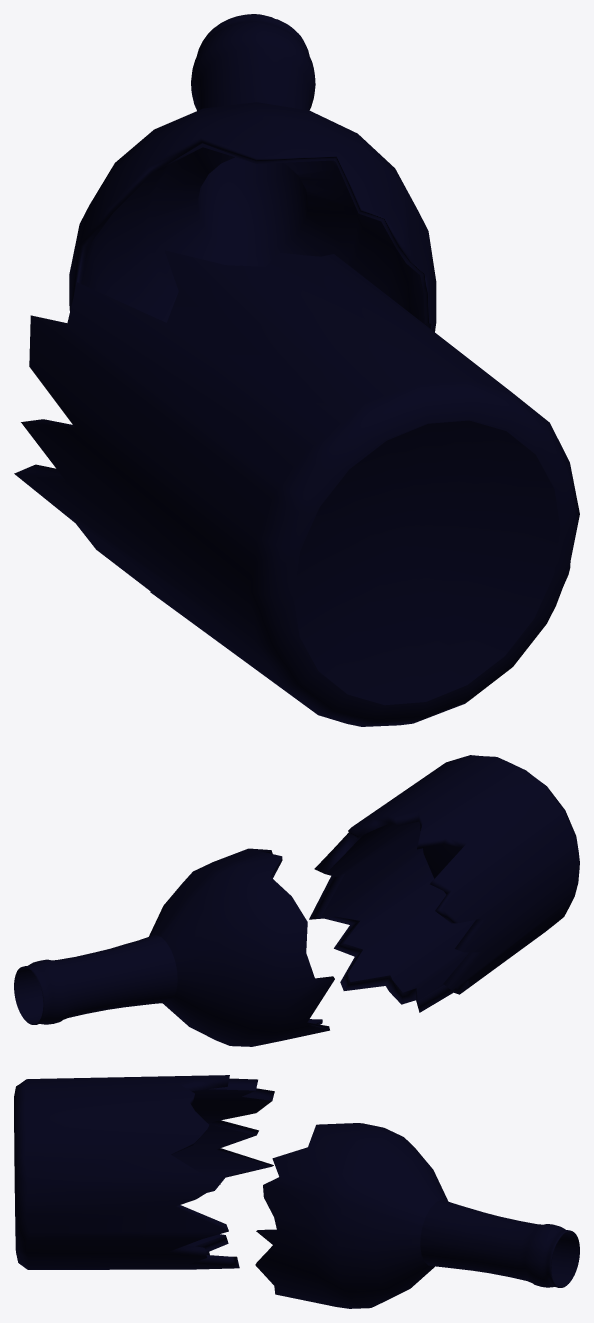
File: Flasche_Blau_kaputt.fbx
3 views of the same model, one above another, from view 1: azimuth 30°, elevation 25°; view 2: azimuth 150°, elevation 25°; view 3: azimuth 270°, elevation 25° (orthographic). The views are drawn at different scales.
Visible parts, largest first — view 1: pPipe5; view 2: pPipe5; view 3: pPipe5.
Part boxes in pixels (<box>): pPipe5: <box>14,14,579,726</box>; pPipe5: <box>14,755,579,1046</box>; pPipe5: <box>14,1075,579,1308</box>.
Bounding box in the file's own units: 39.1 × 22.95 × 65.33.
